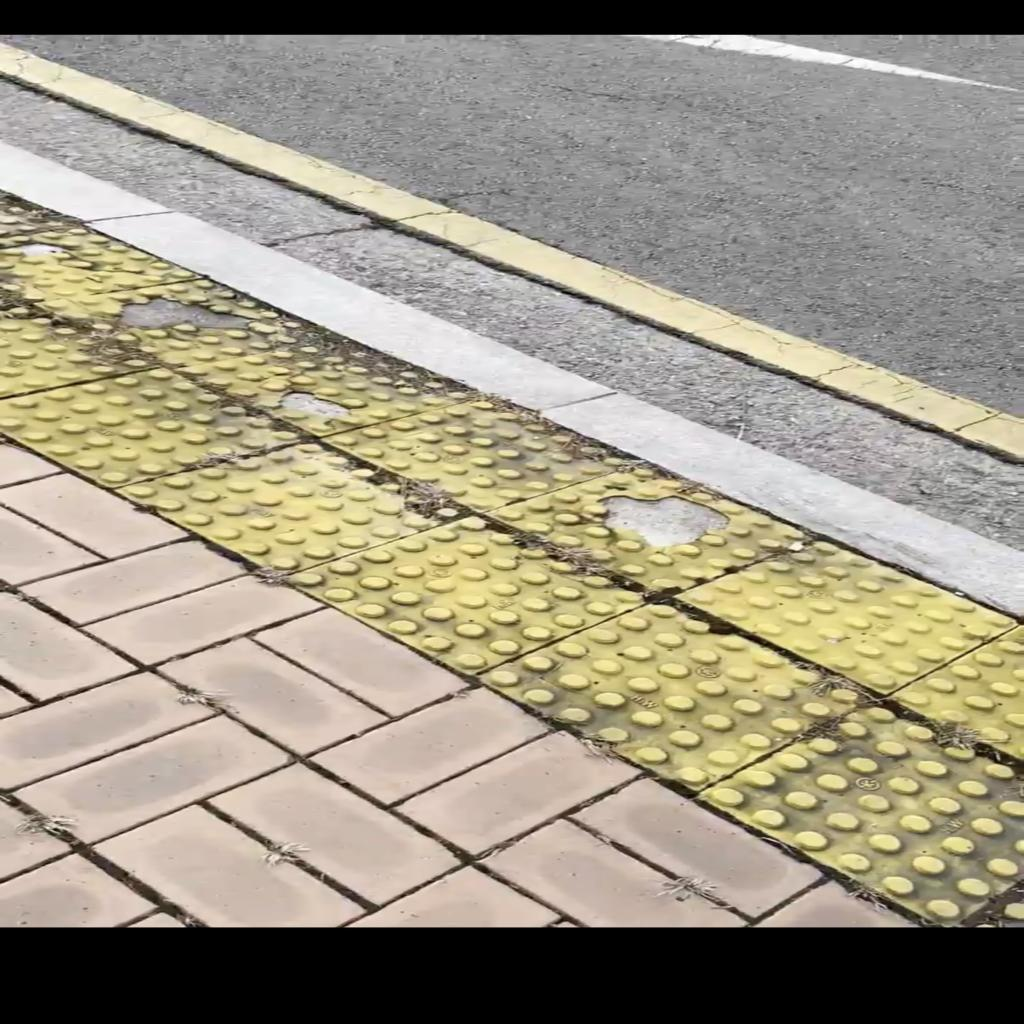Stop block broken: (485, 415, 813, 640), (176, 287, 474, 486), (34, 253, 342, 389)
Stop block normal: (281, 454, 655, 732), (672, 497, 1018, 731)
